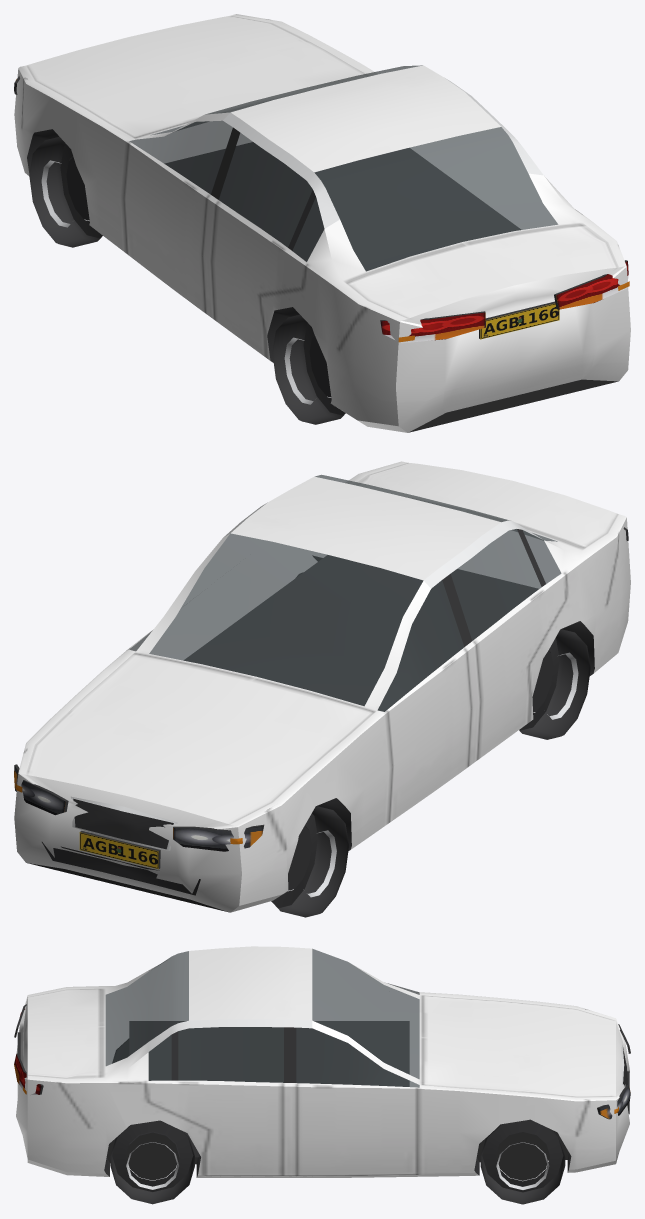
File: sedan_mercedes_lod1.glb
3 views of the same model, one above another, from view 1: azimuth 30°, elevation 25°; view 2: azimuth 150°, elevation 25°; view 3: azimuth 270°, elevation 25° (orthographic). The views are drawn at different scales.
Visible parts, largest first — view 1: body, wheel_fl_mesh, wheel_rl_mesh; view 2: body, wheel_fl_mesh, wheel_rl_mesh; view 3: body, wheel_fr_mesh, wheel_rr_mesh.
Boxes of the visible parts, x1=… form: body: x1=14, y1=14, x2=630, y2=432; wheel_fl_mesh: x1=29, y1=136, x2=102, y2=247; wheel_rl_mesh: x1=272, y1=314, x2=345, y2=424; body: x1=14, y1=461, x2=630, y2=912; wheel_fl_mesh: x1=271, y1=806, x2=348, y2=917; wheel_rl_mesh: x1=519, y1=629, x2=590, y2=739; body: x1=14, y1=946, x2=630, y2=1177; wheel_fr_mesh: x1=480, y1=1120, x2=565, y2=1204; wheel_rr_mesh: x1=110, y1=1120, x2=194, y2=1204.
Size of the model in its own units: 1.77 by 1.45 by 4.6.
Materials: 11 (5 with a texture image).
